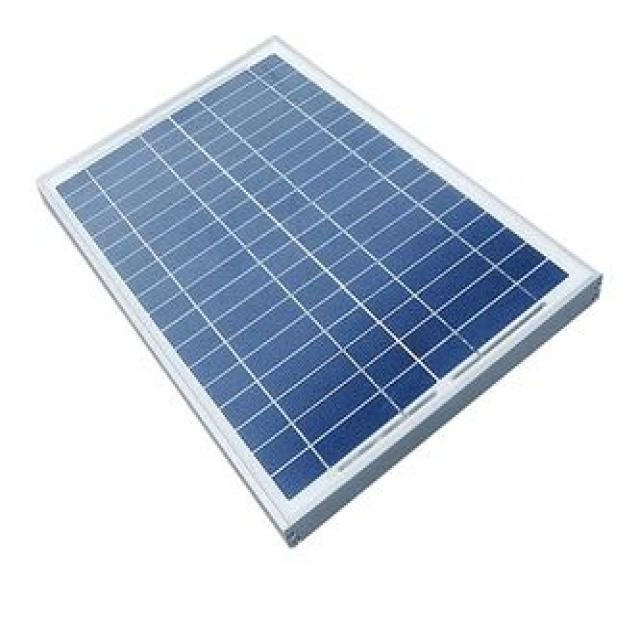no faulty: (62, 55, 568, 501)
